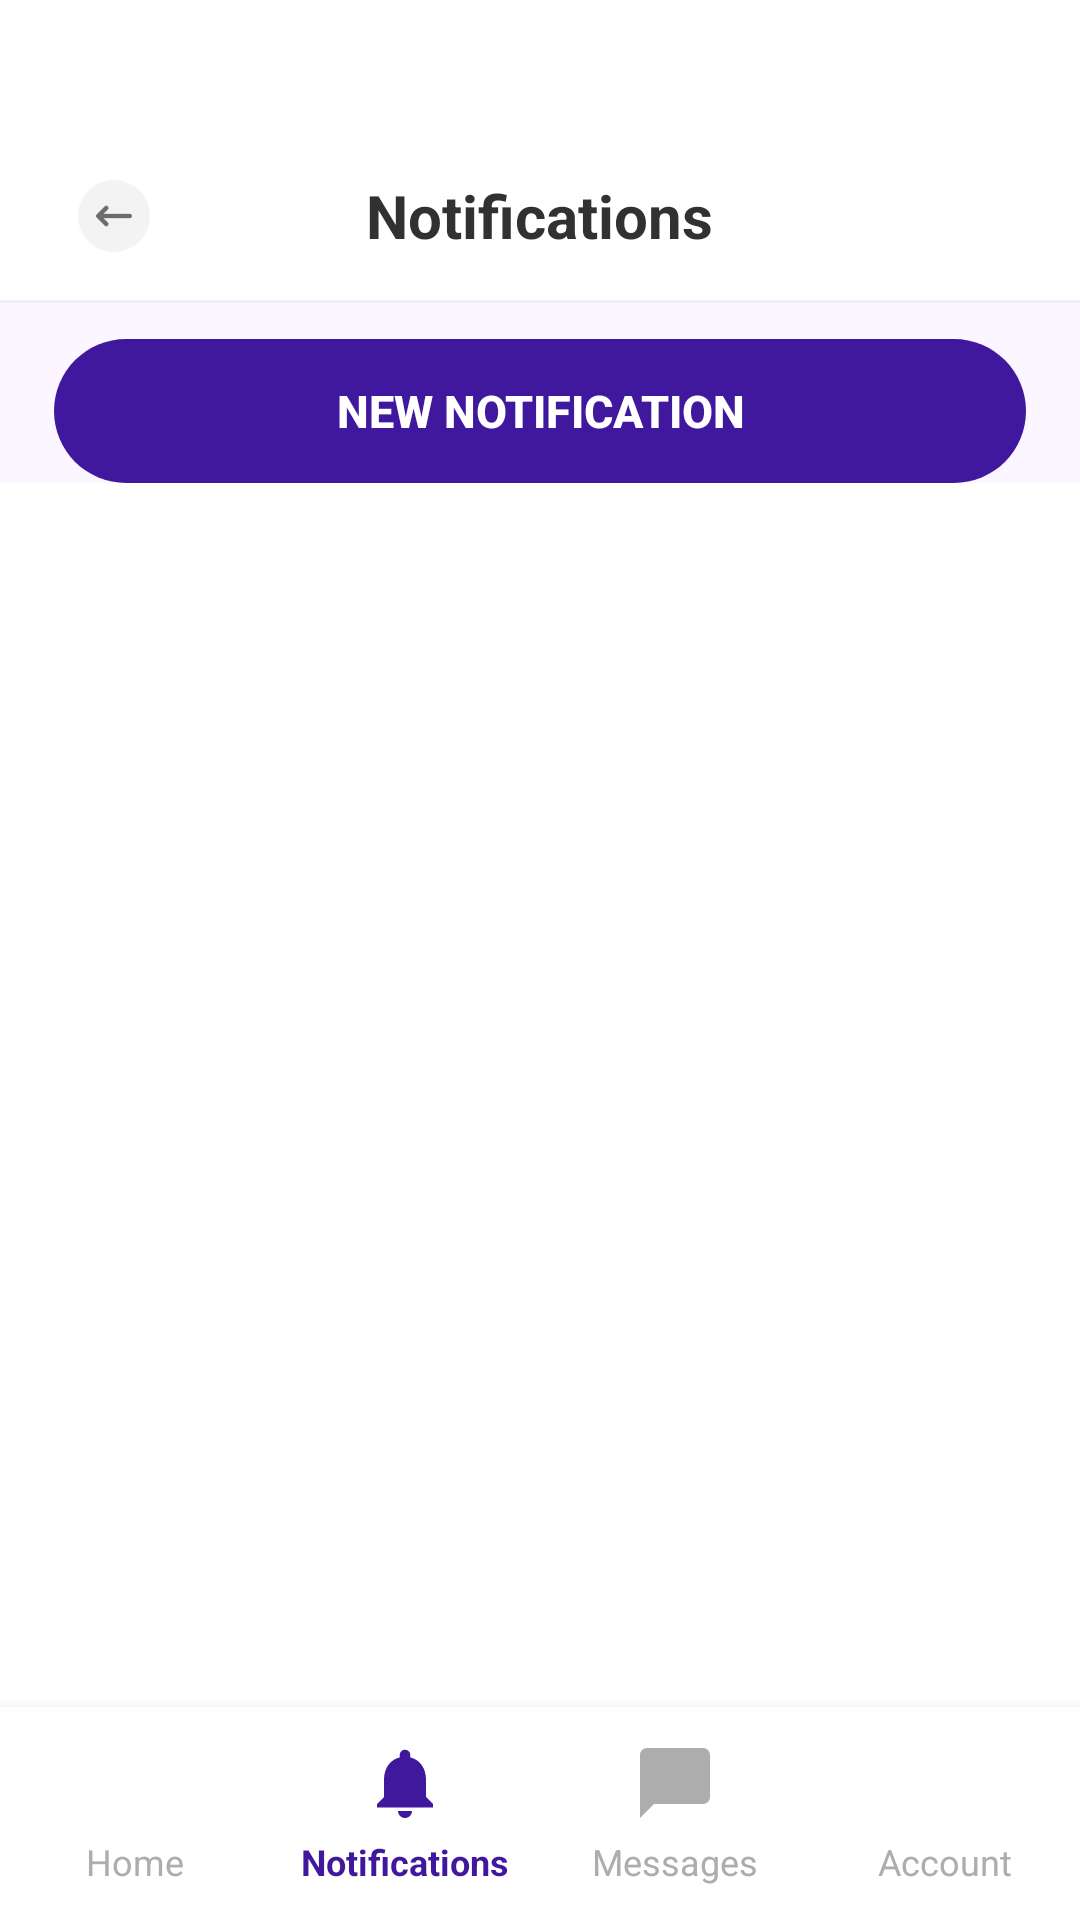

Where to tap for icons on this 1080x1920 app screen, as [x,y]:
Back: [114,216]
